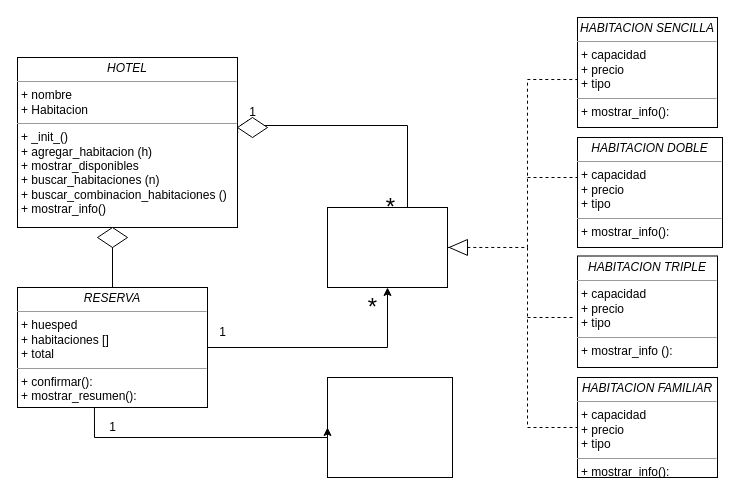
Some shapes in this 740 by 495 pixel diagram are drawn without their labels. Here are the shapes that lost their labels. From the top down, the box of each, then its label:
(326, 206, 448, 288): HABITACION + id + mostrar_info():
(326, 376, 452, 478): HUESPED + nombre + id + mostrar_info( )
